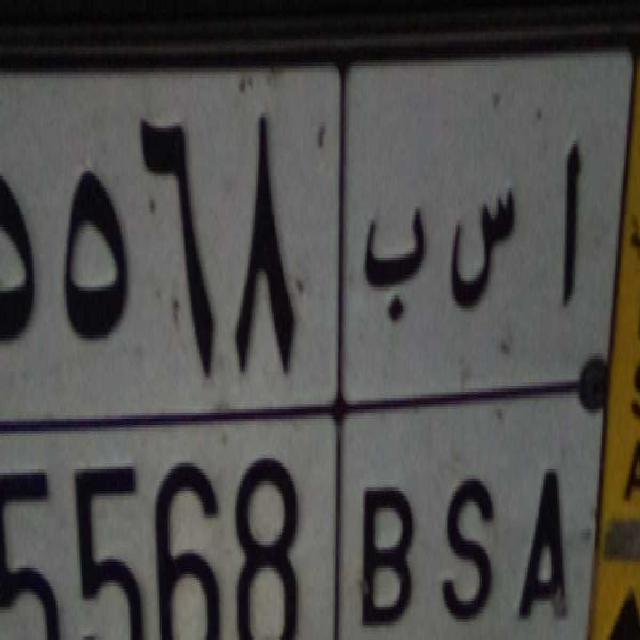license_plate: (0, 395, 584, 640)
